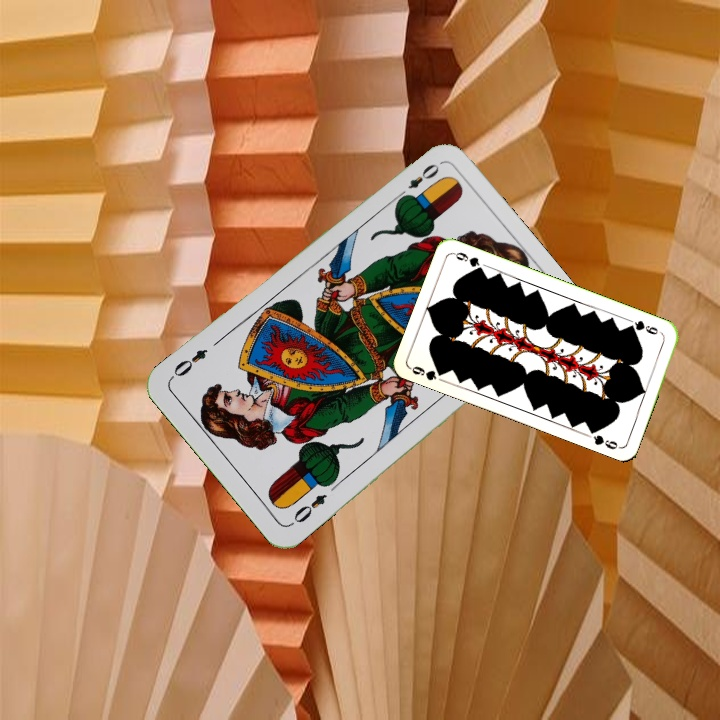EO: (393, 159, 442, 202), (289, 489, 330, 526)
G9: (406, 362, 448, 383), (624, 316, 665, 337)
